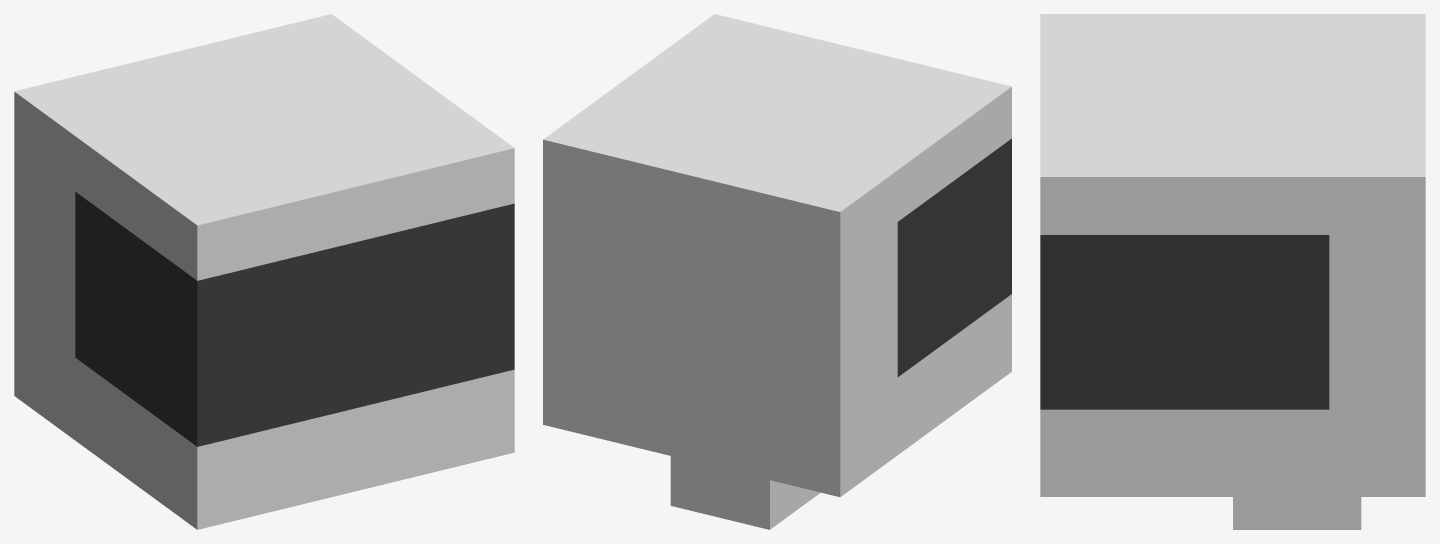
The model's file is stig head.obj.
The picture shows the model from 3 angles, left to right: view 1: azimuth 30°, elevation 25°; view 2: azimuth 150°, elevation 25°; view 3: azimuth 270°, elevation 25°; orthographic projection. The views are drawn at different scales.
Bounding box in the file's own units: 12 × 14 × 12.
Materials: 1 (1 with a texture image).
